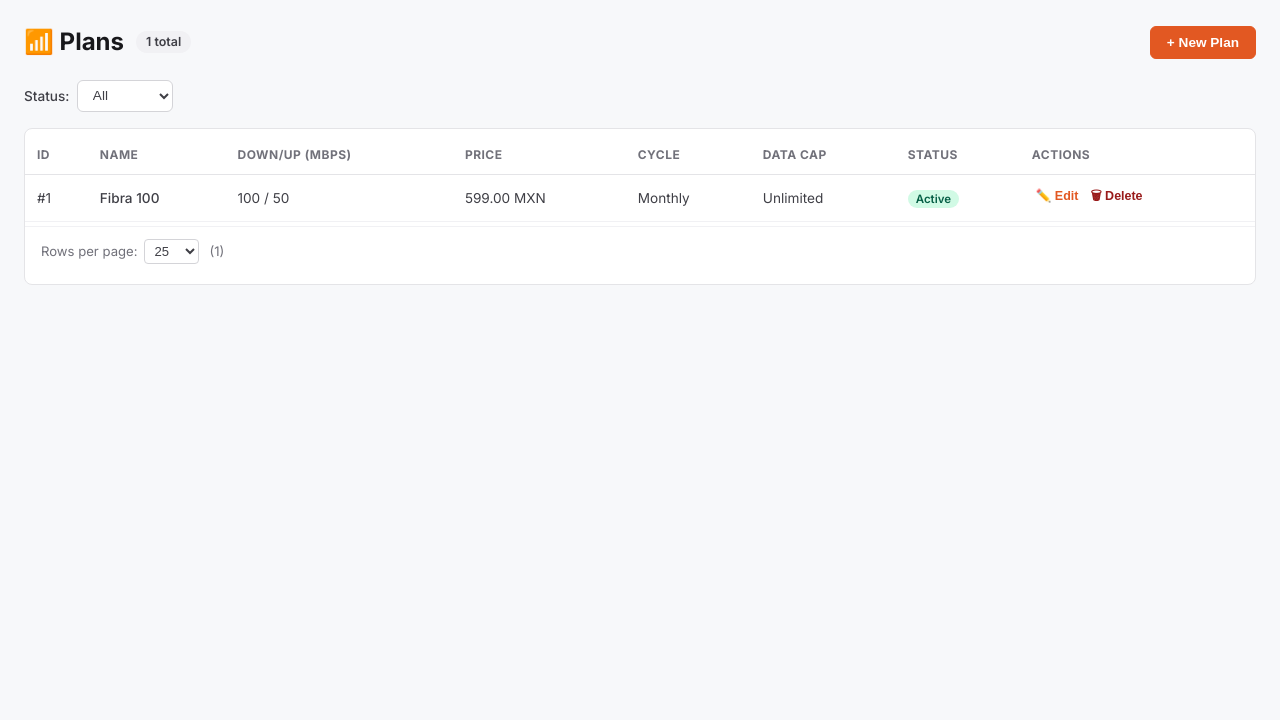
it: PlanList page › renders RADIUS Vendor label in plan modal
The width and height of the screenshot is (1280, 720).
Expected: the text "Fibra 100" is shown, top-left (88, 174), bottom-right (226, 221)
Note: Open New Plan modal
Click the button "+ New Plan" at {"x": 1203, "y": 42}, box top-left (1150, 26), bottom-right (1256, 58)
(page scrolled)
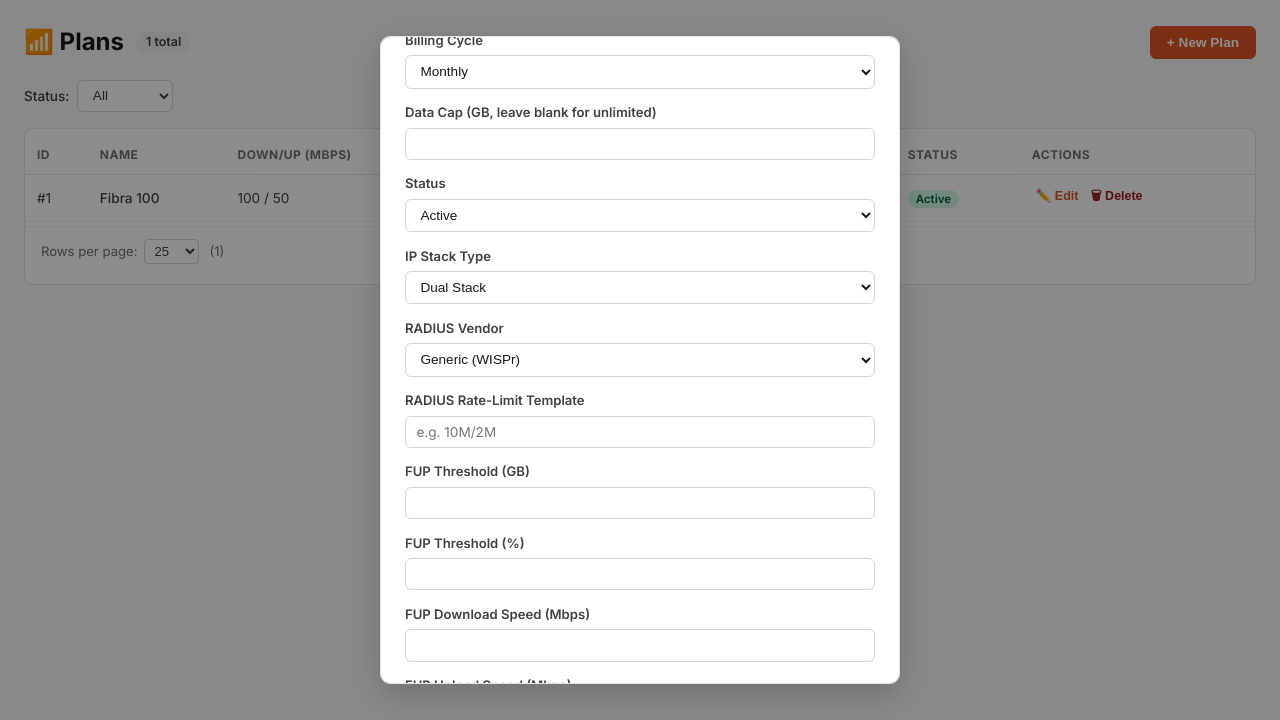
Now the dropdown labelled "RADIUS Vendor" is shown, box top-left (405, 343), bottom-right (875, 377)
